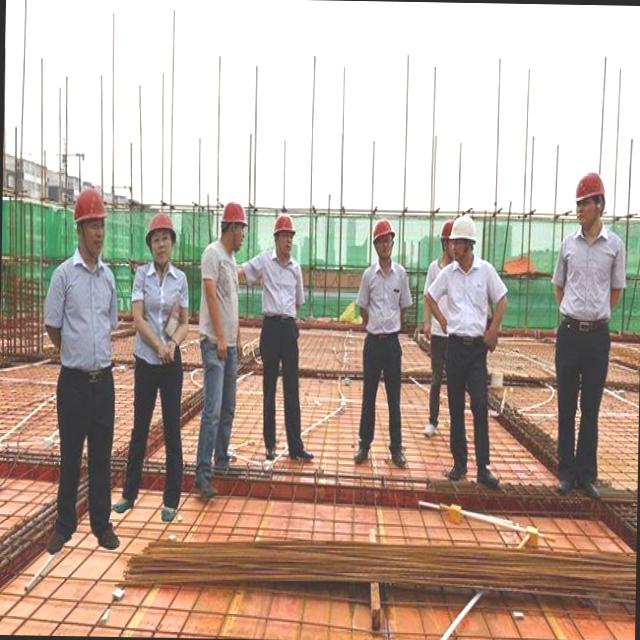helmet: (64, 182, 112, 232), (566, 170, 614, 206), (141, 212, 178, 245), (449, 216, 484, 245), (217, 200, 250, 229), (368, 216, 397, 246), (267, 214, 301, 234)
no-vest: (51, 252, 118, 379), (558, 228, 622, 344), (126, 264, 192, 374), (194, 242, 243, 344), (438, 263, 502, 335), (257, 254, 310, 333), (360, 260, 410, 336)
